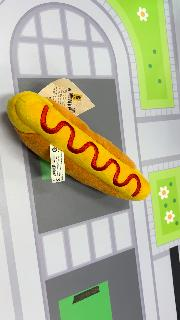hotdog: (7, 90, 151, 202)
